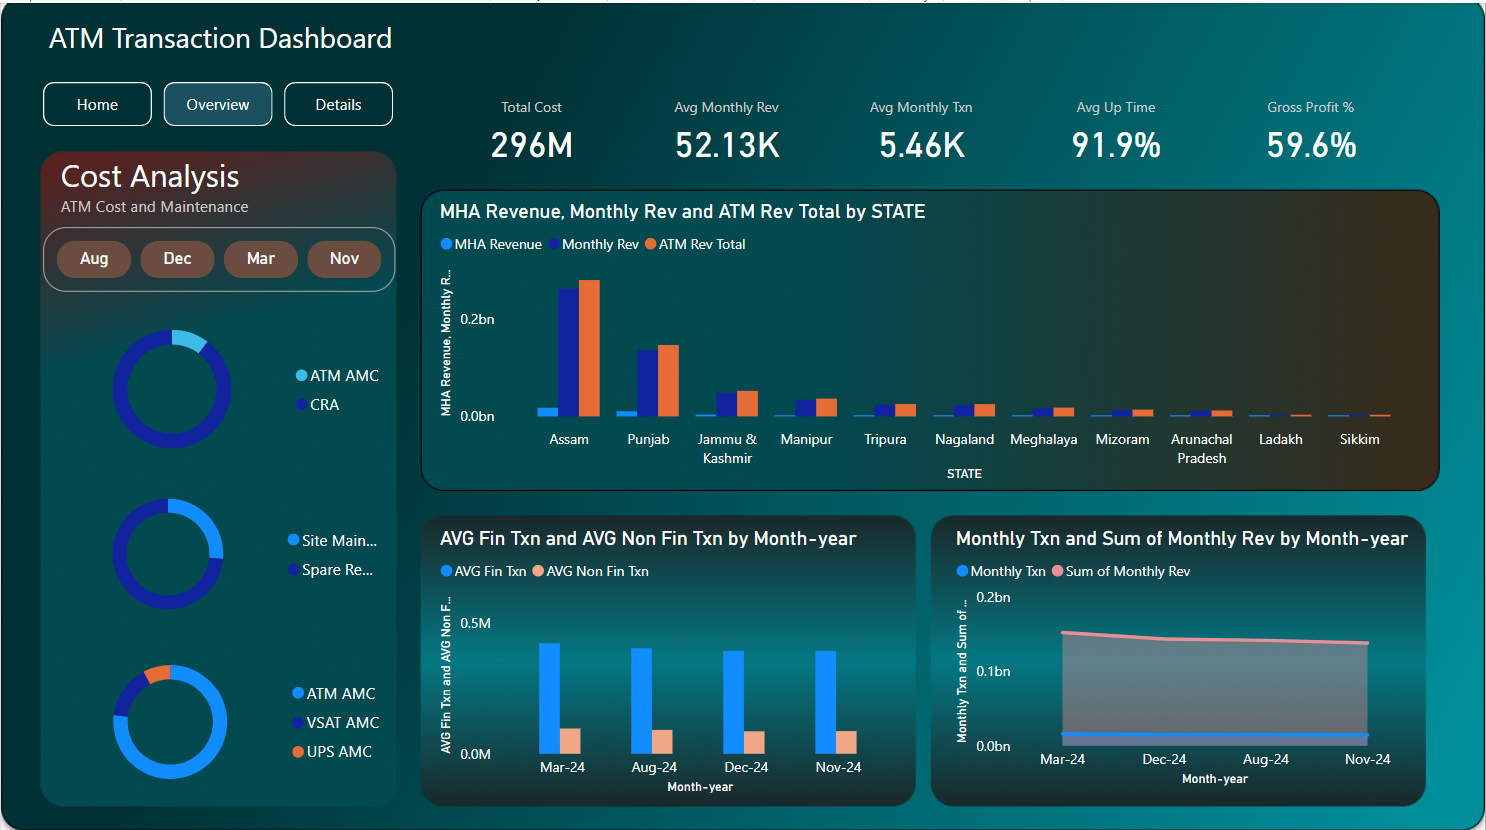

This screenshot's page, from the dashboard's own definition file:
{"tool":"powerbi","page":{"name":"Overview","canvas":[1280,720],"ordinal":1},"visuals":[{"type":"donutChart","fields":{"Y":["Sum(data.ATM AMC)","Sum(data.CRA)"]},"box":[36.2,263.9,304.5,138],"z":0},{"type":"donutChart","fields":{"Y":["Sum(data.Site Maint (Non Asset))","Sum(data.Spare Rep.(UPS))"]},"box":[36.2,410.6,304.5,129.4],"z":1000},{"type":"donutChart","fields":{"Y":["Sum(data.ATM AMC)","Sum(data.VSAT AMC)","Sum(data.UPS AMC)"]},"box":[36.2,553.7,304.5,132.8],"z":2000},{"type":"clusteredColumnChart","fields":{"Y":["Sum(data.MHA Revenue)","Sum(data.Monthly Rev)","Sum(data.ATM Rev Total)"],"Category":["data.STATE"]},"box":[373.5,169.1,858.2,247.5],"z":3000},{"type":"clusteredColumnChart","fields":{"Y":["Sum(data.AVG Fin Txn)","Sum(data.AVG Non Fin Txn)"],"Category":["data.Month-year"]},"box":[373.5,451.1,405.4,235.5],"z":4000},{"type":"areaChart","fields":{"Category":["data.Month-year"],"Y":["Sum(data.Monthly Txn)","Sum(data.Monthly Rev)"]},"box":[818.5,451.1,400.2,228.6],"z":5000},{"type":"advancedSlicerVisual","fields":{"Values":["data.New-months"]},"box":[36.2,193.2,304.5,56.1],"z":6000},{"type":"textbox","box":[46.6,125.1,186.3,68.1],"z":7000},{"type":"textbox","box":[36.2,7.8,316.5,42.3],"z":8000},{"type":"cardVisual","fields":{"Data":["Sum(data. Total Cost  )","Avg(data.Monthly Rev)","Avg(data.Monthly Txn)","Avg(data.Up Time)","data.gross-profit-percentage"]},"box":[372.6,63.8,846.1,86.3],"z":9000},{"type":"pageNavigator","box":[36.2,68.1,304.5,38.8],"z":10000}]}

Visuals, with their boxes in screenshot pixels (x1, y1, x2, y2), scaled from the page's 1280x720 canvas onto the 1486x830 screenshot:
donutChart - Sum(data.ATM AMC) x Sum(data.CRA): select_region(42, 304, 396, 463)
donutChart - Sum(data.Site Maint (Non Asset)) x Sum(data.Spare Rep.(UPS)): select_region(42, 473, 396, 622)
donutChart - Sum(data.ATM AMC) x Sum(data.VSAT AMC): select_region(42, 638, 396, 791)
clusteredColumnChart - Sum(data.MHA Revenue) x Sum(data.Monthly Rev): select_region(434, 195, 1430, 480)
clusteredColumnChart - Sum(data.AVG Fin Txn) x Sum(data.AVG Non Fin Txn): select_region(434, 520, 904, 791)
areaChart - data.Month-year x Sum(data.Monthly Txn): select_region(950, 520, 1415, 784)
advancedSlicerVisual - data.New-months: select_region(42, 223, 396, 287)
textbox: select_region(54, 144, 270, 223)
textbox: select_region(42, 9, 409, 58)
cardVisual - Sum(data. Total Cost  ) x Avg(data.Monthly Rev): select_region(433, 74, 1415, 173)
pageNavigator: select_region(42, 79, 396, 123)
